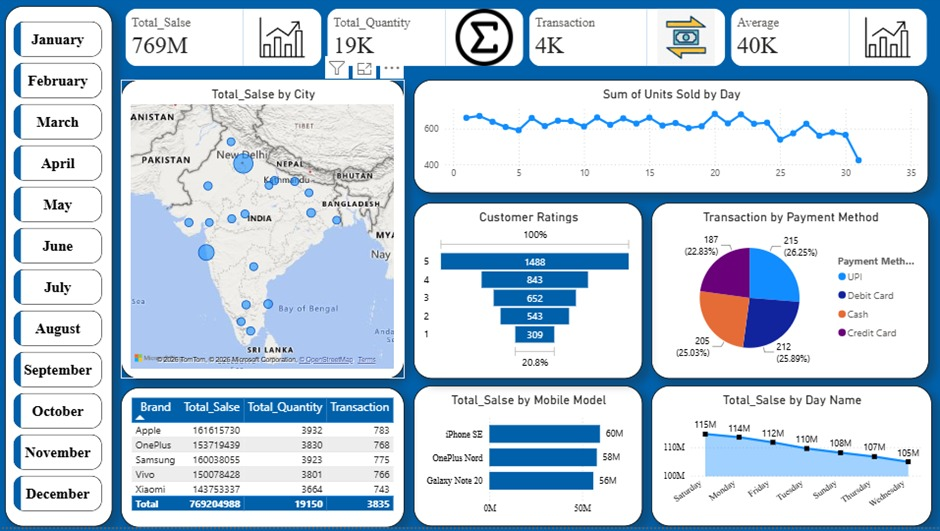

The page's visual inventory and layout, read from the dashboard file:
{"tool":"powerbi","page":{"name":"Page 1","canvas":[1280,720],"ordinal":0},"visuals":[{"type":"shape","box":[11,13.8,145.9,706.1],"z":0},{"type":"advancedSlicerVisual","fields":{"Values":["Salse_Data.Date.Variation.Date Hierarchy.Month"]},"box":[17.9,28.9,130.8,677.2],"z":1000},{"type":"cardVisual","fields":{"Data":["Salse_Data.Total_Salse","Salse_Data.Total_Quantity","Salse_Data.Transaction","Salse_Data.Average"]},"box":[156.9,0,1123.1,112.9],"z":2000},{"type":"map","fields":{"Category":["Salse_Data.City"],"Size":["Salse_Data.Total_Salse"]},"box":[167.9,112.9,385.4,406],"z":3000},{"type":"lineChart","fields":{"Y":["Sum(Salse_Data.Units Sold)"],"Category":["Salse_Data.Date.Variation.Date Hierarchy.Month","Salse_Data.Date.Variation.Date Hierarchy.Day"]},"box":[565.7,112.9,699.2,154.2],"z":4000},{"type":"clusteredBarChart","fields":{"Category":["Salse_Data.Mobile Model"],"Y":["Salse_Data.Total_Salse"]},"box":[565.7,528.5,311.1,191.3],"z":5000},{"type":"pieChart","fields":{"Category":["Salse_Data.Payment Method"],"Y":["Salse_Data.Transaction"]},"box":[887.7,279.4,377.1,239.5],"z":6000},{"type":"funnel","title":"Customer Ratings","fields":{"Category":["Salse_Data.Customer Ratings"],"Y":["CountNonNull(Salse_Data.Customer Ratings)"]},"box":[565.7,279.4,311.1,239.5],"z":7000},{"type":"stackedAreaChart","fields":{"Category":["Salse_Data.Day Name"],"Y":["Salse_Data.Total_Salse"]},"box":[887.7,528.5,381.2,191.3],"z":8000},{"type":"tableEx","fields":{"Values":["Salse_Data.Brand","Salse_Data.Total_Salse","Salse_Data.Total_Quantity","Salse_Data.Transaction"]},"box":[168.1,530.6,384.7,190.3],"z":9000}]}

Visuals, with their boxes in screenshot pixels (x1, y1, x2, y2), scaled from the page's 1280x720 canvas onto the 940x531 screenshot:
shape: (left=8, top=10, right=115, bottom=530)
advancedSlicerVisual - Salse_Data.Date.Variation.Date Hierarchy.Month: (left=13, top=21, right=109, bottom=521)
cardVisual - Salse_Data.Total_Salse x Salse_Data.Total_Quantity: (left=115, top=0, right=939, bottom=83)
map - Salse_Data.City x Salse_Data.Total_Salse: (left=123, top=83, right=406, bottom=383)
lineChart - Sum(Salse_Data.Units Sold) x Salse_Data.Date.Variation.Date Hierarchy.Month: (left=415, top=83, right=929, bottom=197)
clusteredBarChart - Salse_Data.Mobile Model x Salse_Data.Total_Salse: (left=415, top=390, right=644, bottom=530)
pieChart - Salse_Data.Payment Method x Salse_Data.Transaction: (left=652, top=206, right=929, bottom=383)
"Customer Ratings" funnel: (left=415, top=206, right=644, bottom=383)
stackedAreaChart - Salse_Data.Day Name x Salse_Data.Total_Salse: (left=652, top=390, right=932, bottom=530)
tableEx - Salse_Data.Brand x Salse_Data.Total_Salse: (left=123, top=391, right=406, bottom=530)
